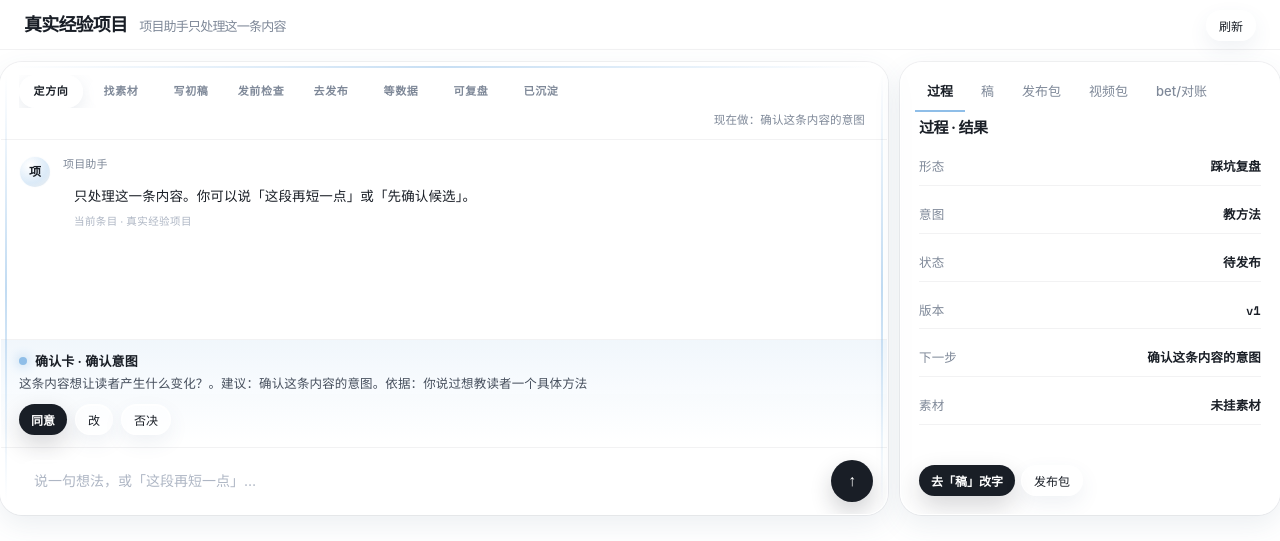
Scenario: ProjectStagePage › surfaces a model failure in the conversation instead of a fake answer
Type "在吗" into the field named "对项目助手说话" at (418, 481), box x1=15 y1=460 x2=821 y2=501
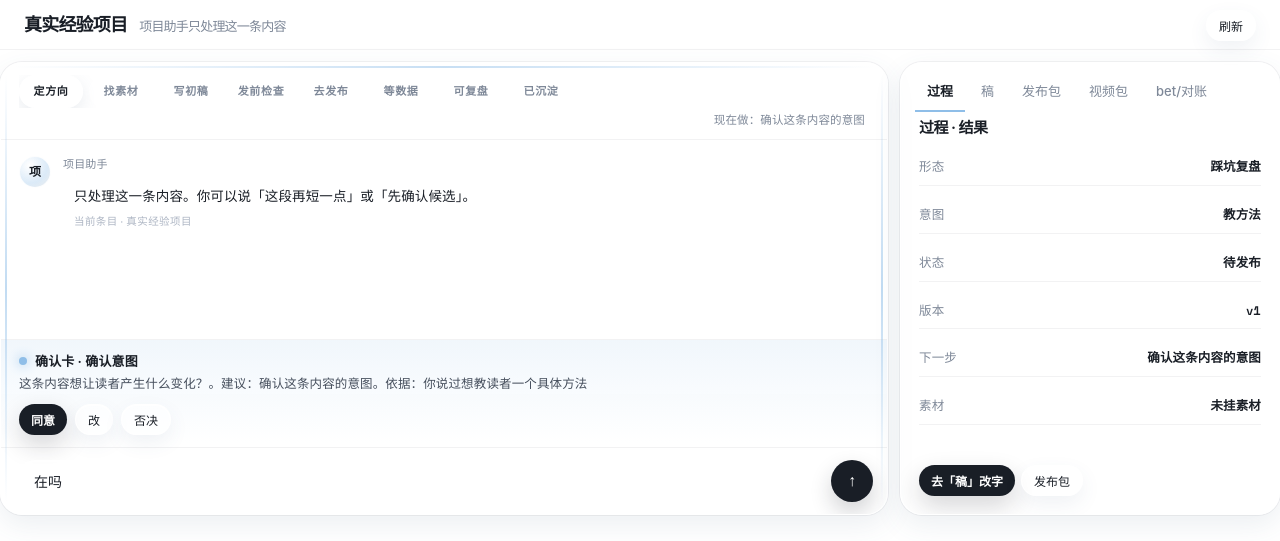
Press Enter in the field named "对项目助手说话", box x1=15 y1=460 x2=821 y2=501
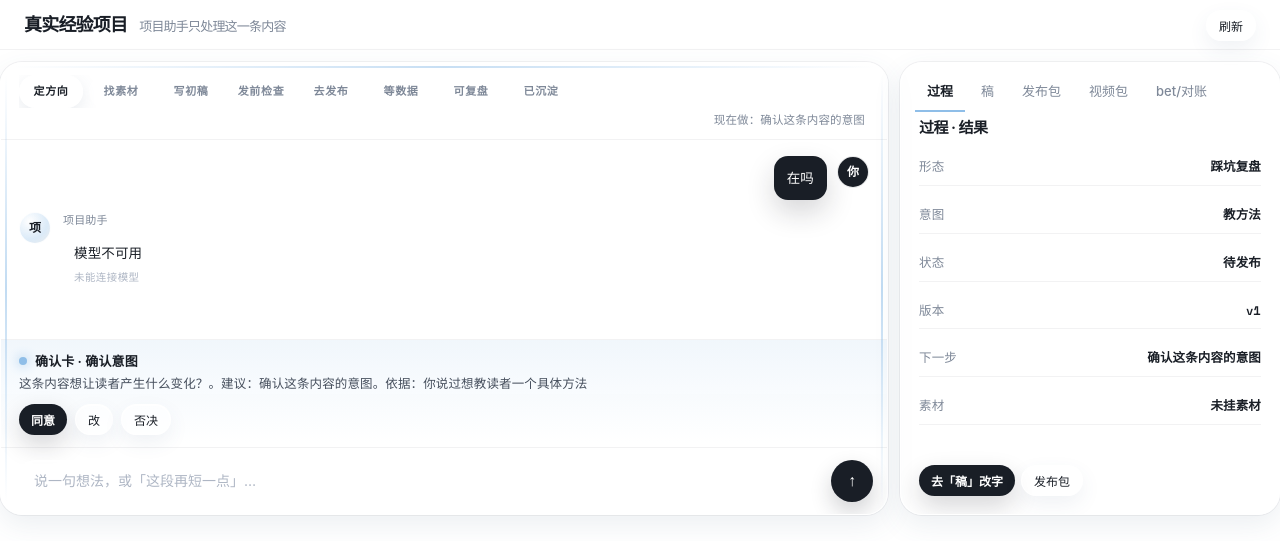
expect the text "模型不可用" is shown: met, box x1=74 y1=242 x2=142 y2=264
expect the text "未能连接模型" is shown: met, box x1=74 y1=269 x2=142 y2=286
